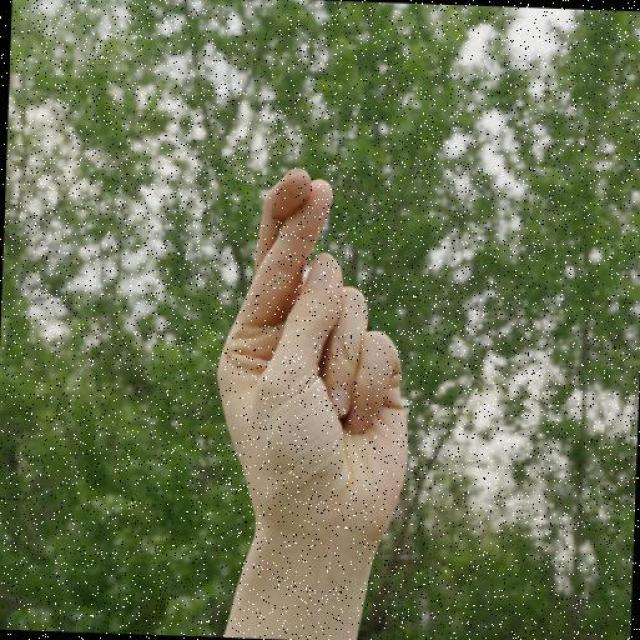R: (206, 158, 424, 557)
